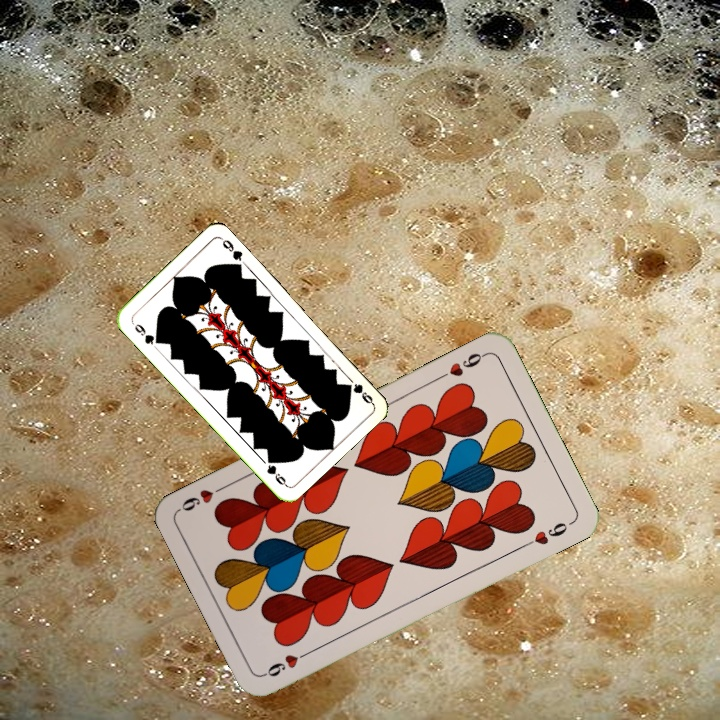G9: (128, 318, 163, 347), (343, 379, 376, 407)
H9: (435, 348, 490, 382), (260, 646, 315, 680)
